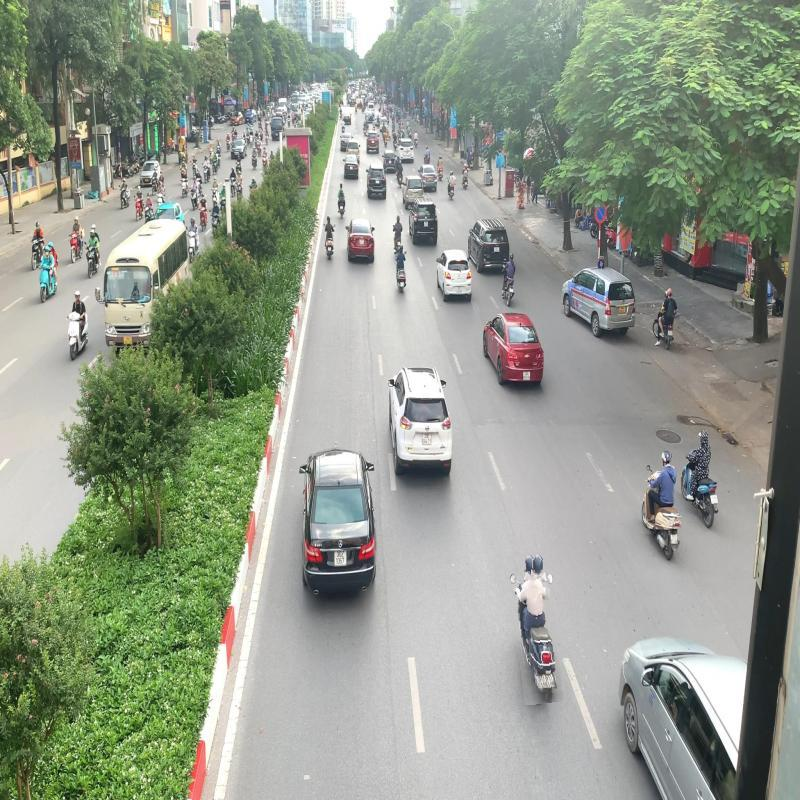helmet: (532, 553, 544, 576), (662, 450, 672, 466)
licenseplate: (536, 674, 548, 690), (672, 534, 680, 544)
motorcyclist: (510, 552, 558, 705), (640, 449, 682, 561)
